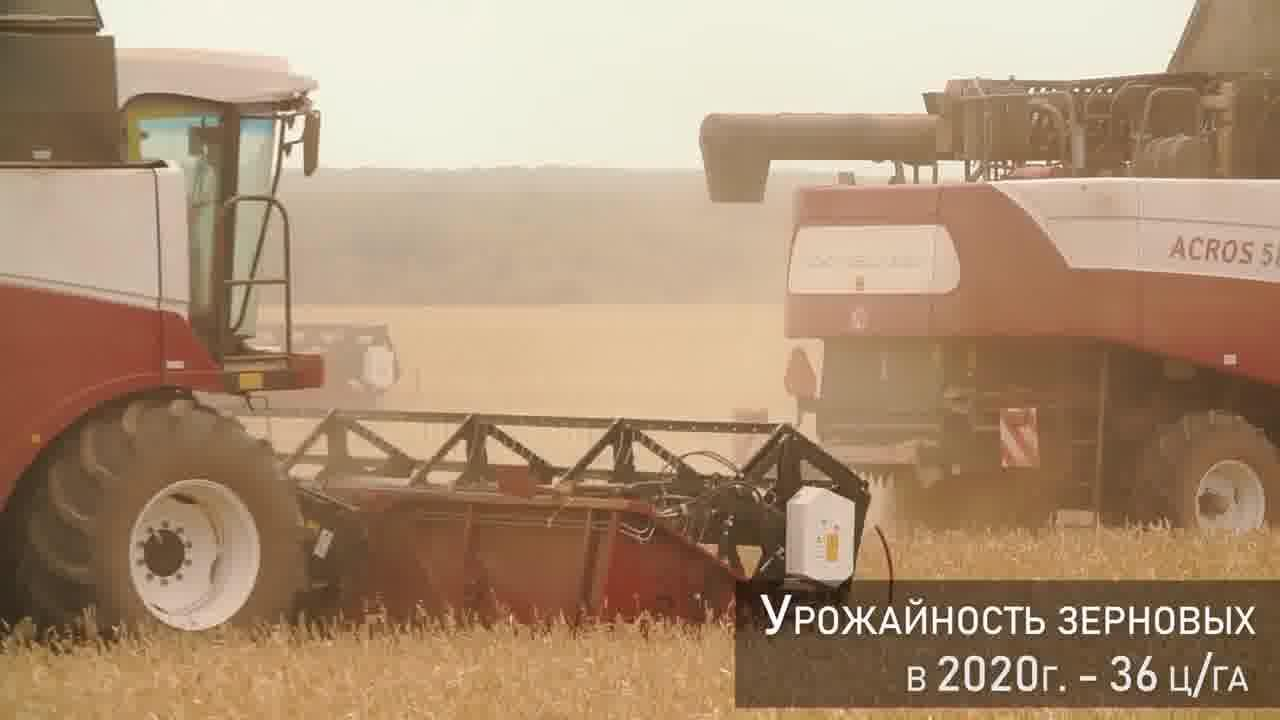combine harvester: (3, 0, 898, 667), (694, 0, 1280, 546)
